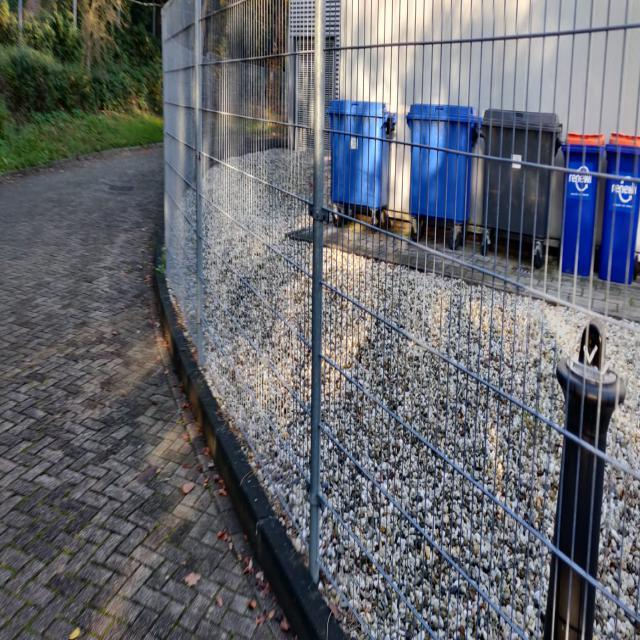fence line: (161, 3, 640, 639)
